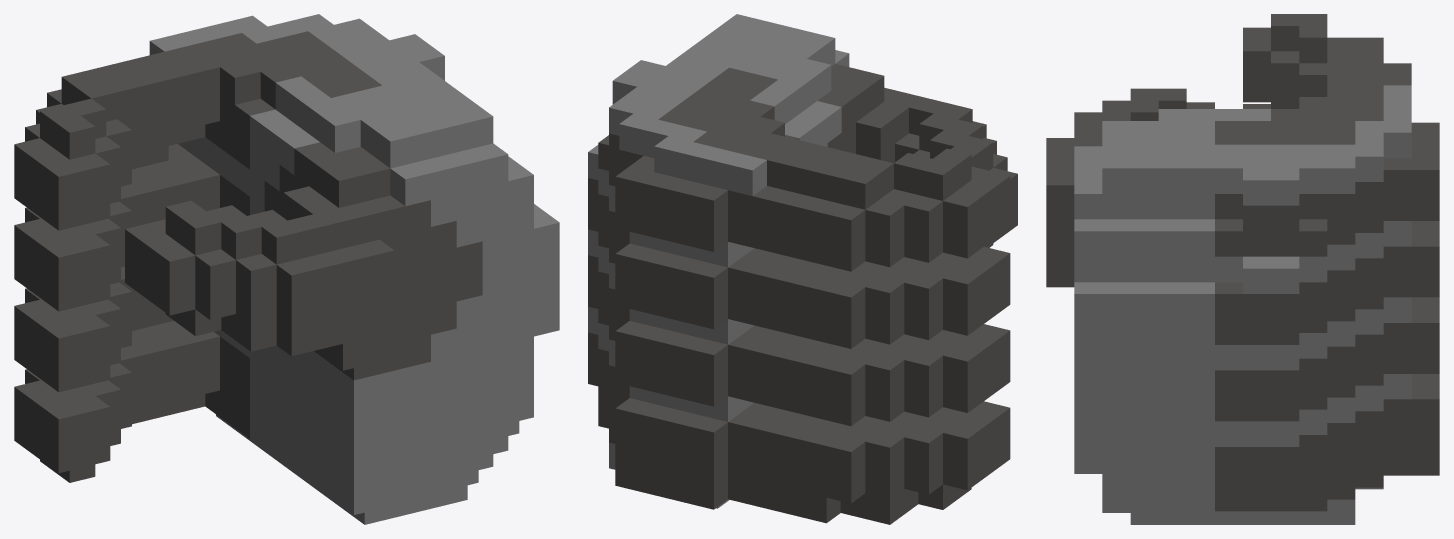
The model's file is Hand Closed.obj.
3 views of the same model, side by side, from view 1: azimuth 30°, elevation 25°; view 2: azimuth 150°, elevation 25°; view 3: azimuth 270°, elevation 25° (orthographic). The views are drawn at different scales.
Bounding box in the file's own units: 16 × 14 × 14.
Materials: 1 (1 with a texture image).
